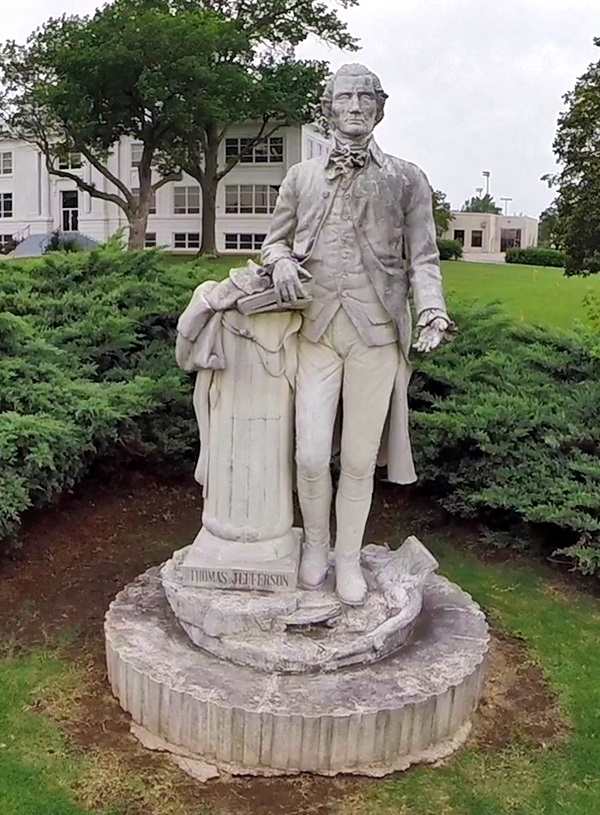person-like: (257, 58, 460, 612)
